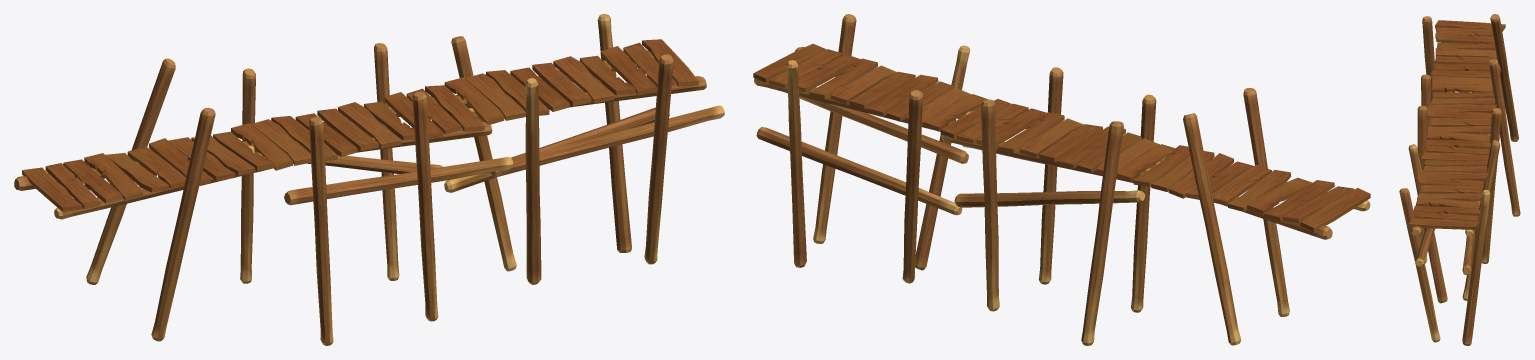
The model's file is Scaffolding.fbx.
3 views of the same model, side by side, from view 1: azimuth 30°, elevation 25°; view 2: azimuth 150°, elevation 25°; view 3: azimuth 270°, elevation 25° (orthographic). The views are drawn at different scales.
Visible parts, largest first — view 1: Scaffolding.001, Scaffolding; view 2: Scaffolding.001, Scaffolding; view 3: Scaffolding, Scaffolding.001.
Part boxes in pixels (x1,y1,x2,y2): Scaffolding.001: [86, 14, 724, 345]; Scaffolding: [14, 39, 706, 219]; Scaffolding.001: [756, 14, 1289, 345]; Scaffolding: [753, 43, 1370, 239]; Scaffolding: [1409, 20, 1505, 236]; Scaffolding.001: [1399, 14, 1520, 345].
Size of the model in its own units: 1689 by 707 by 411.
